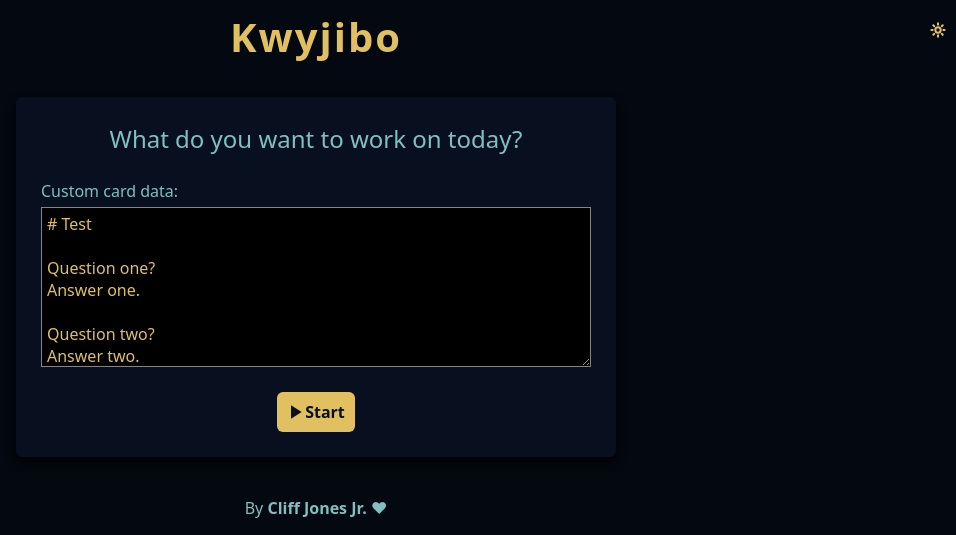
Test: App › starts a quiz, reveals an answer, and advances after a confident rating
The image size is (956, 535).
Step 1. Click the button "Start" → (316, 412), box [277, 392, 355, 432]
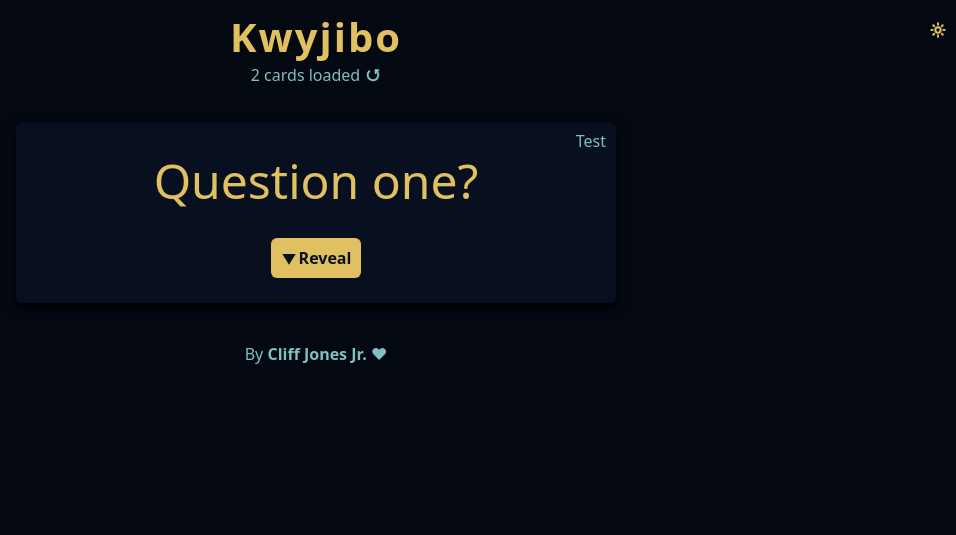
Expected: the text "Answer one." is not shown
Result: the text "Question one?" is shown at [154, 148, 478, 213]
Step 2. Click the button "Reveal" → (316, 258), box [271, 238, 361, 278]
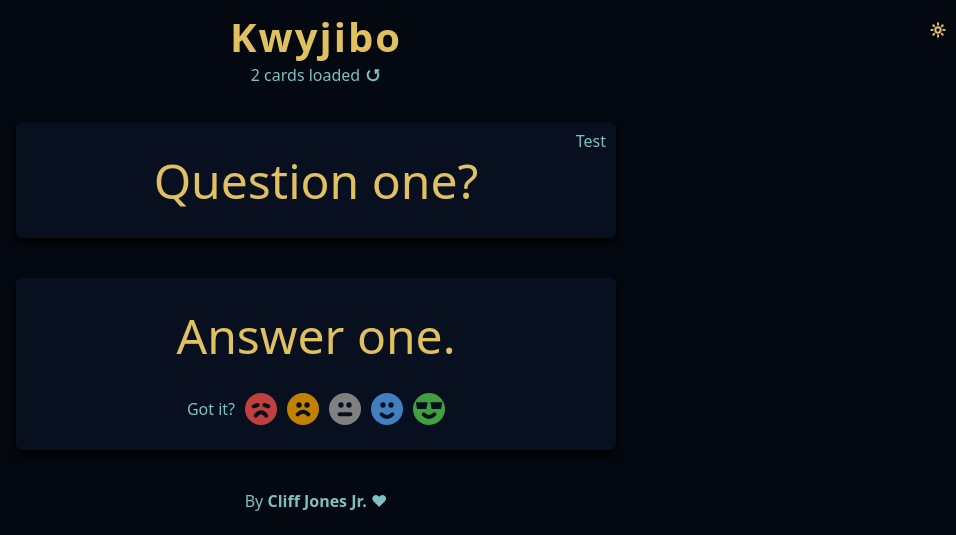
Result: the text "Answer one." is shown at [176, 303, 456, 368]
Step 3. Click the button titled "Yes!" → (429, 409), box [413, 393, 445, 425]
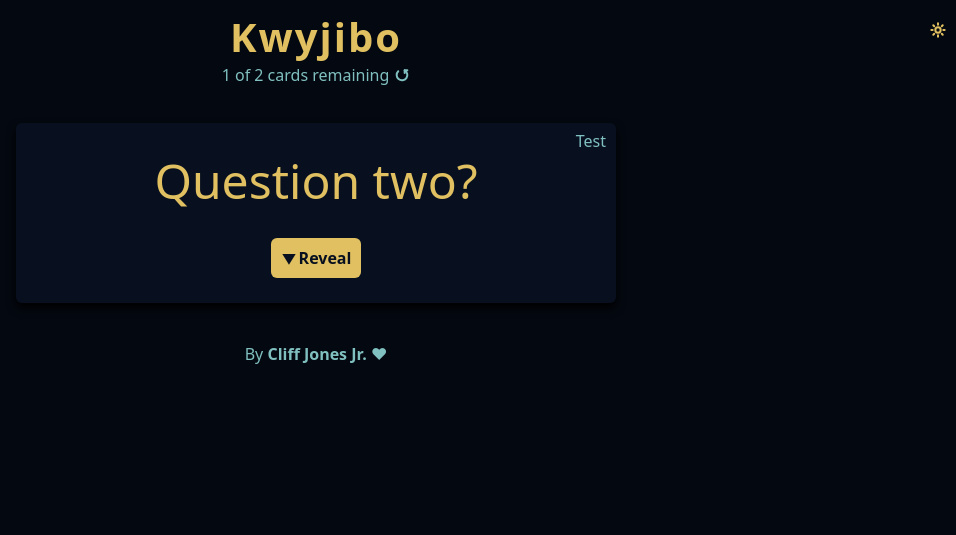
Result: the text "Answer one." is gone
Result: the button "Reveal" is shown at [271, 238, 361, 278]
